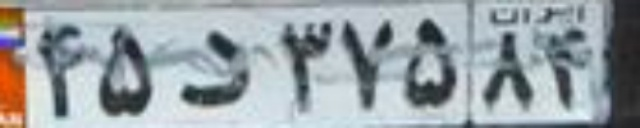3: (277, 21, 338, 112)
4: (35, 24, 90, 118), (542, 28, 596, 111)
5: (95, 23, 156, 115), (402, 19, 459, 108)
7: (341, 19, 391, 111)
8: (476, 31, 536, 112)
dal: (173, 30, 255, 107)
